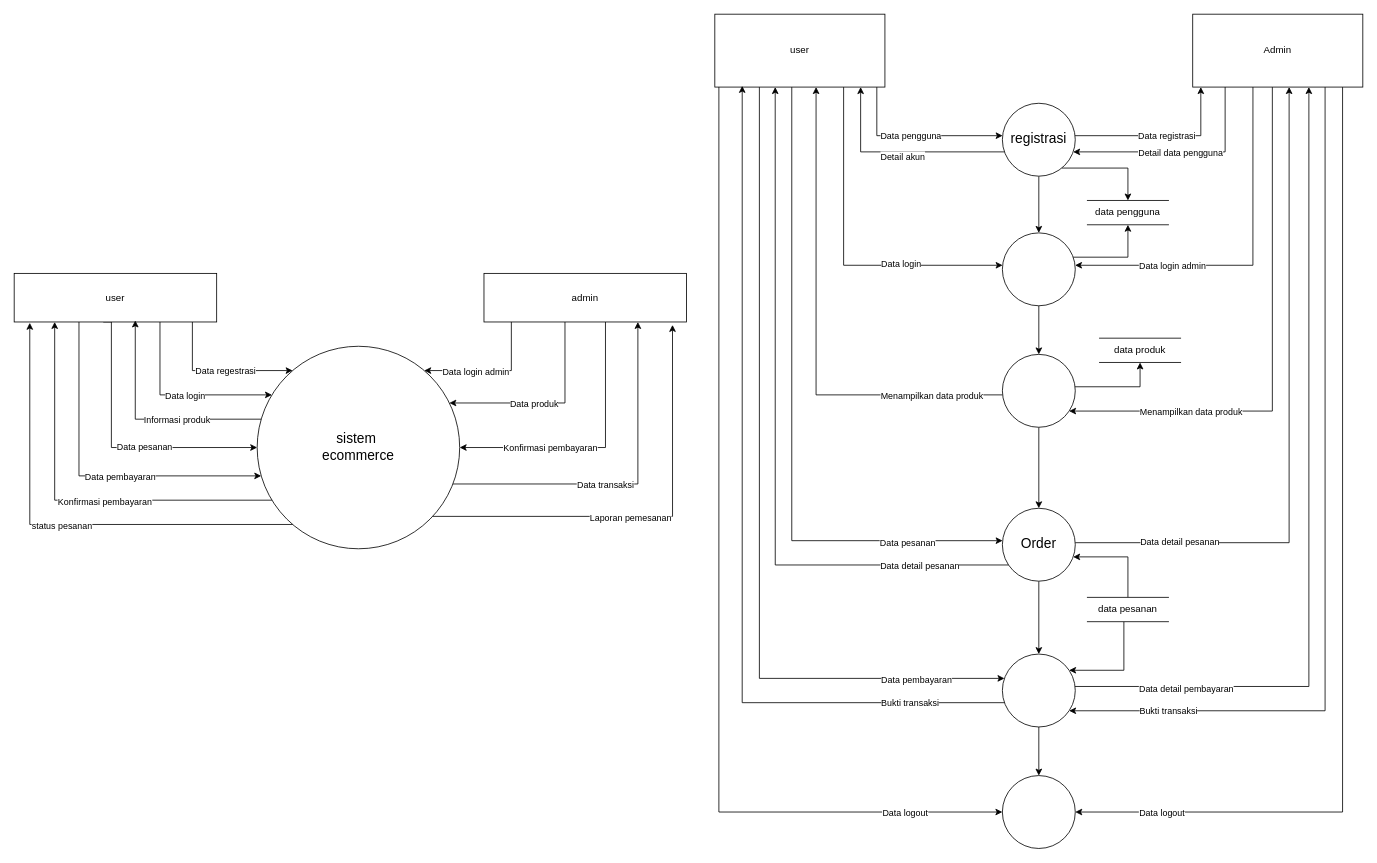
This 1377x863 diagram has some shape labels left out. The centre of each missing label's shape, as x and y in pixels:
"login" belongs at (x=1038, y=269).
"Logout" belongs at (x=1038, y=811).
"Pembayaran" belongs at (x=1038, y=690).
"produk" belongs at (x=1038, y=390).
